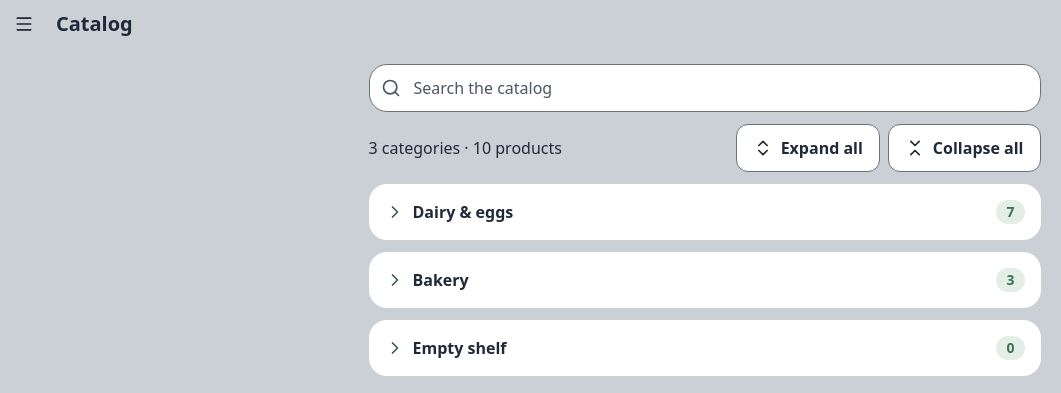
Scenario: Catalog search › PRD-2.7: shows a matching category collapsed, and whole when opened by hand
Expected: the button "Bakery 3" is shown, [368,252,1040,308]
Type "plant" into the search field labelled "Search the catalog" at (704, 88), box [368,64,1040,112]
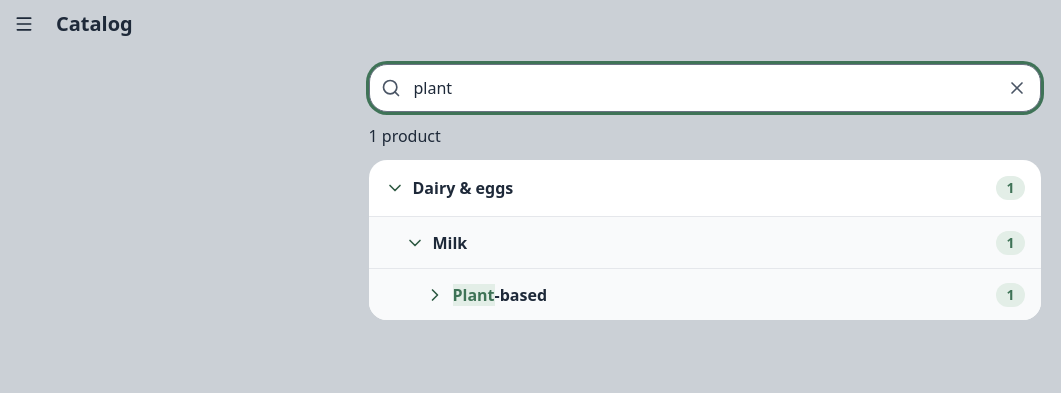
Expected: the text "Oat milk" is not shown
Click the button "Plant-based 1" at (474, 294), box [368,268,1040,320]
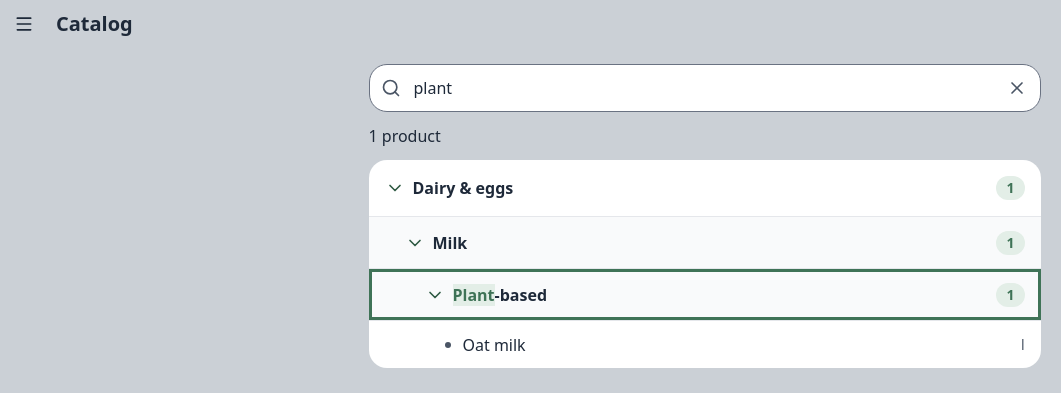
Result: the text "Oat milk" is shown at [462,334,526,356]
